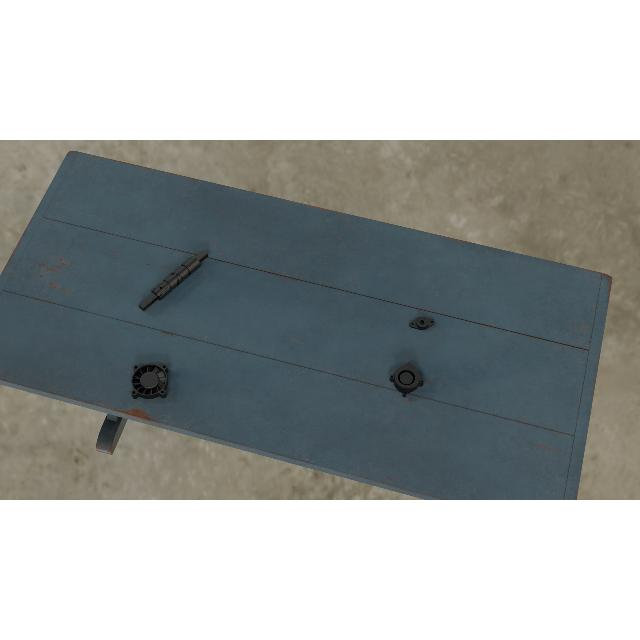Pieza1: (136, 247, 210, 316)
Pieza2: (408, 314, 436, 332)
Pieza3: (388, 361, 426, 399)
Pieza4: (130, 364, 170, 400)
